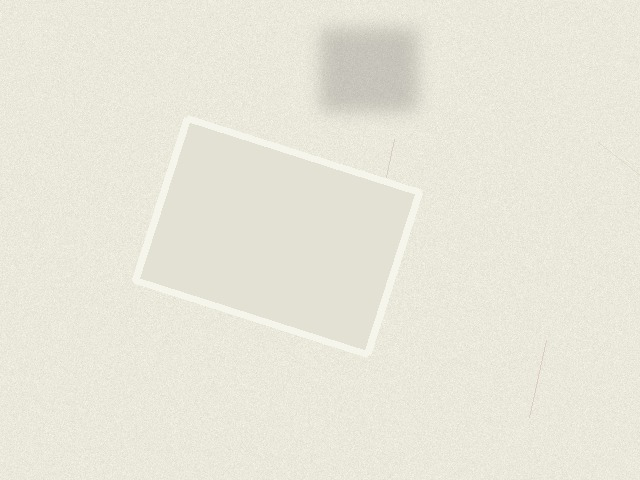parking_area: (135, 118, 419, 354)
